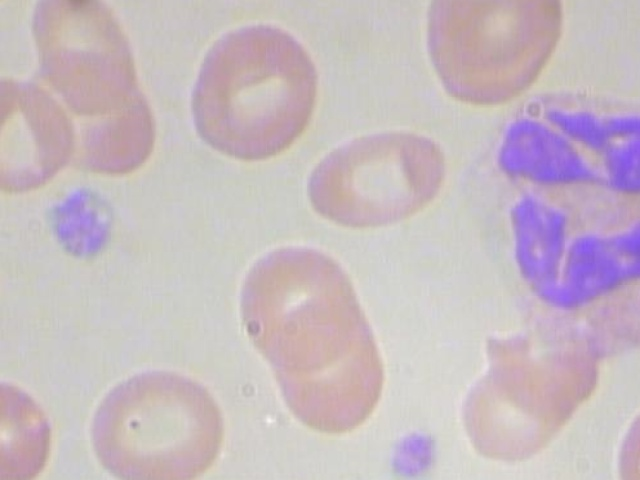Platelets: (41, 177, 124, 267), (373, 416, 446, 480)
RBC: (182, 16, 333, 166), (254, 290, 393, 438), (75, 354, 235, 480), (232, 235, 364, 382), (406, 0, 570, 110), (15, 0, 154, 125), (300, 122, 450, 233), (449, 351, 582, 471), (0, 61, 81, 197), (605, 387, 640, 480), (633, 0, 640, 71), (165, 0, 315, 2)
WBC: (459, 80, 640, 356)
